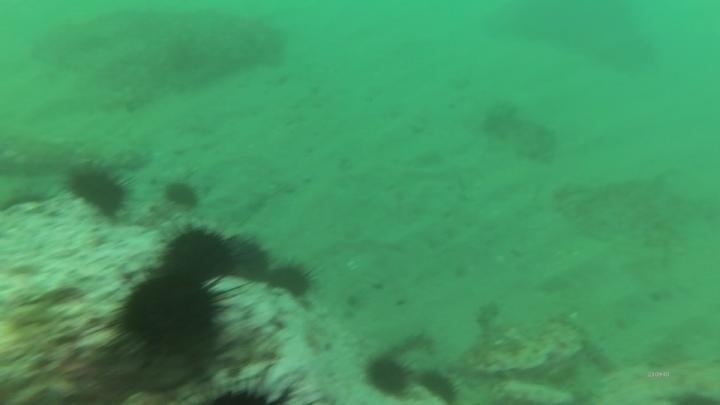echinus: (113, 269, 226, 363), (160, 223, 239, 283), (64, 159, 133, 220), (220, 231, 273, 283), (362, 353, 413, 399), (265, 258, 318, 300), (416, 367, 462, 404), (162, 178, 202, 211)
